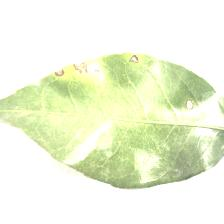canker: (48, 54, 138, 102)
